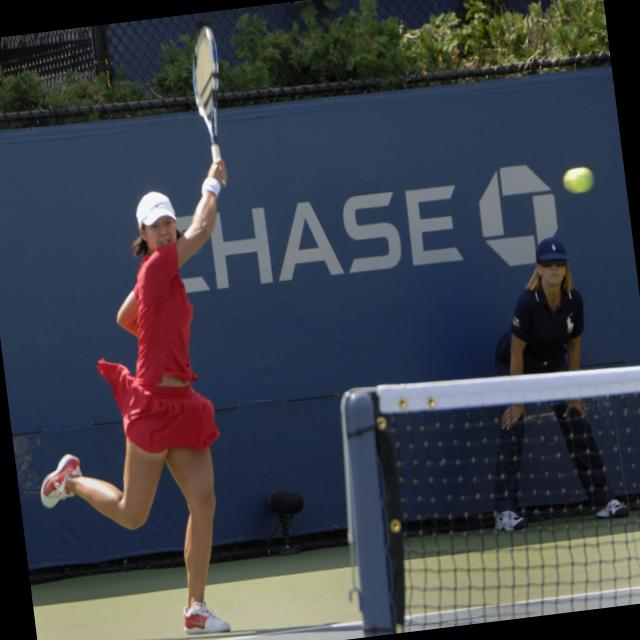Tennis Ball: (562, 165, 595, 192)
